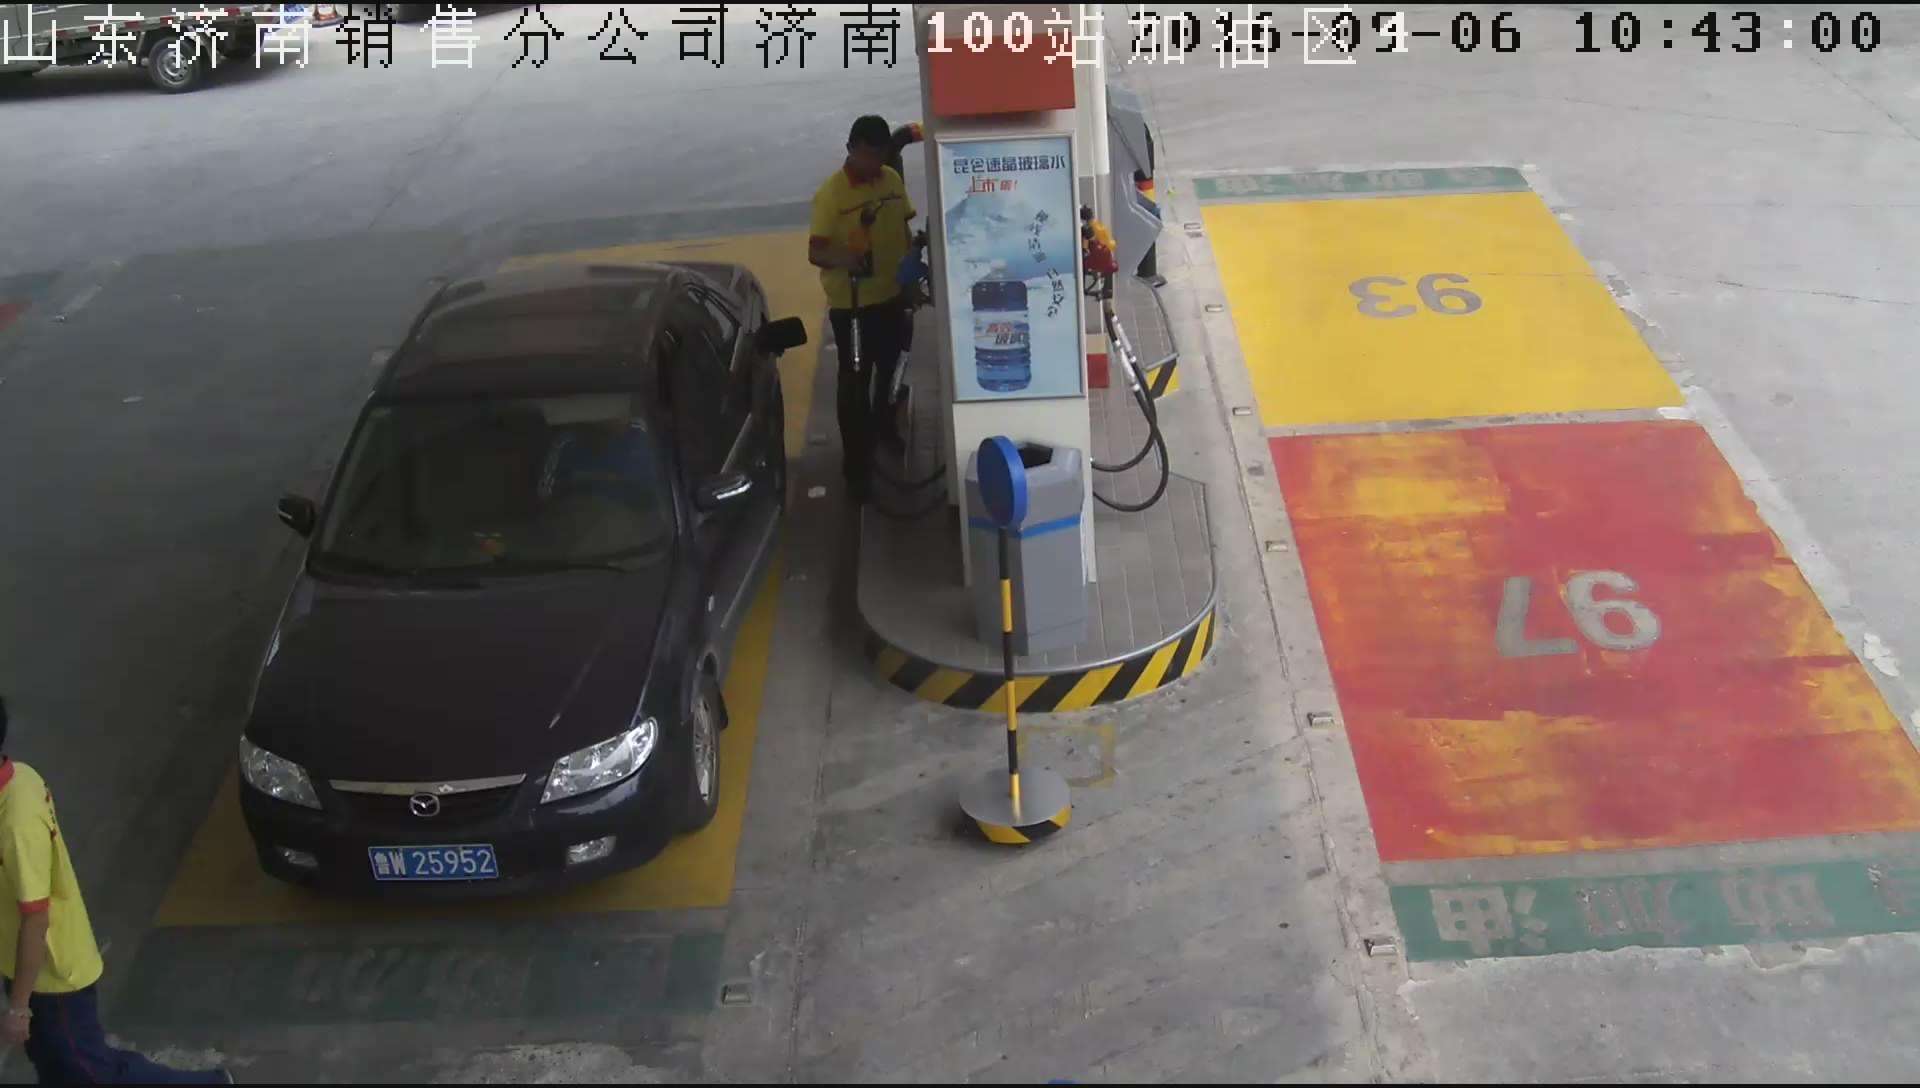blue: (367, 843, 502, 884)
